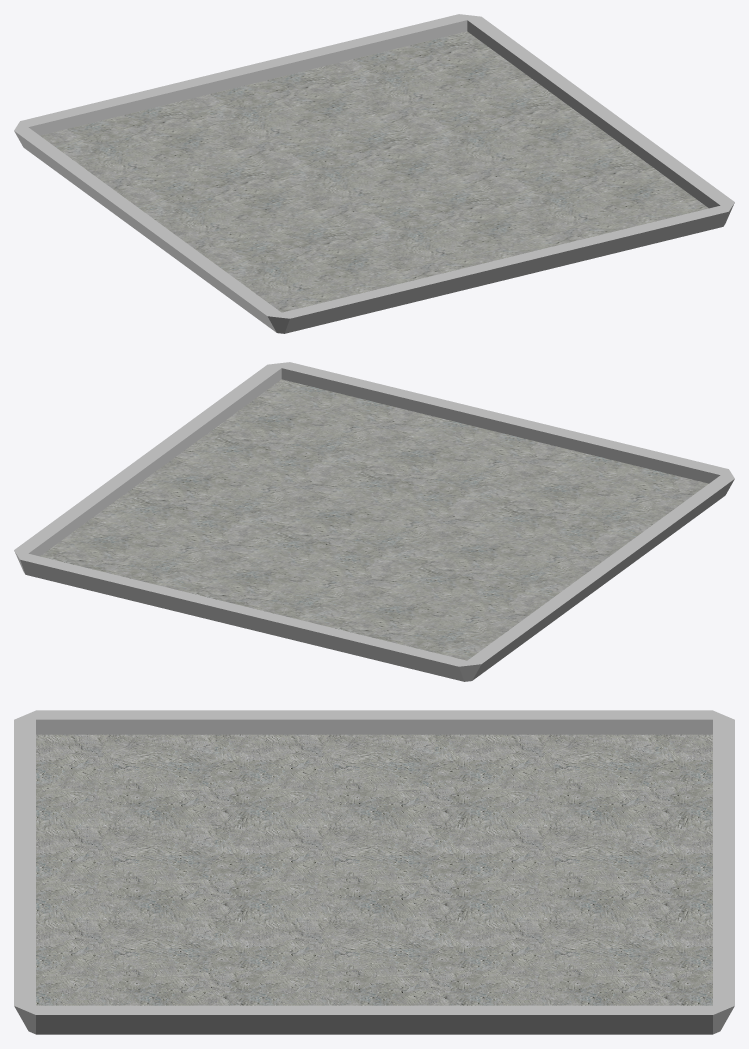
File: Roof_Type_C03.fbx
The picture shows the model from 3 angles, top to bottom: view 1: azimuth 30°, elevation 25°; view 2: azimuth 150°, elevation 25°; view 3: azimuth 270°, elevation 25°; orthographic projection. The views are drawn at different scales.
Parts seen in each view (by area): view 1: Roof_Type_C03; view 2: Roof_Type_C03; view 3: Roof_Type_C03.
Part boxes in pixels (x1=…): Roof_Type_C03: x1=14, y1=14, x2=734, y2=333; Roof_Type_C03: x1=14, y1=362, x2=734, y2=681; Roof_Type_C03: x1=14, y1=710, x2=734, y2=1034.
Size of the model in its own units: 818 by 32 by 818.
